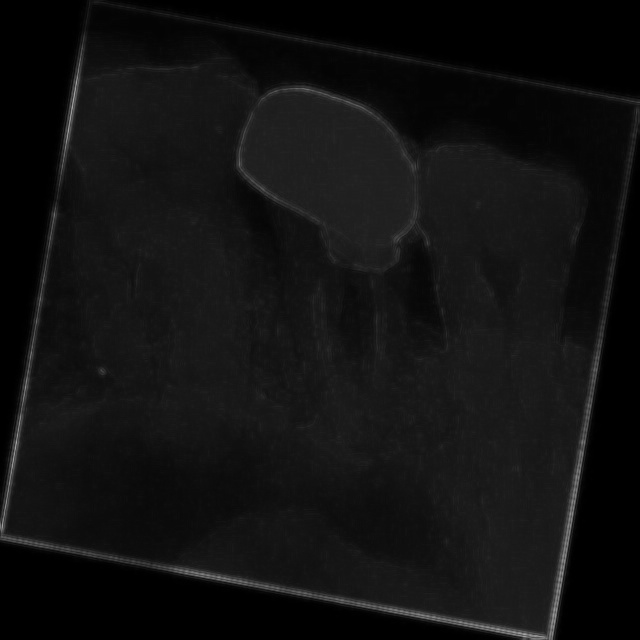Class 1- complete endodontic treatment: (154, 49, 481, 482)
